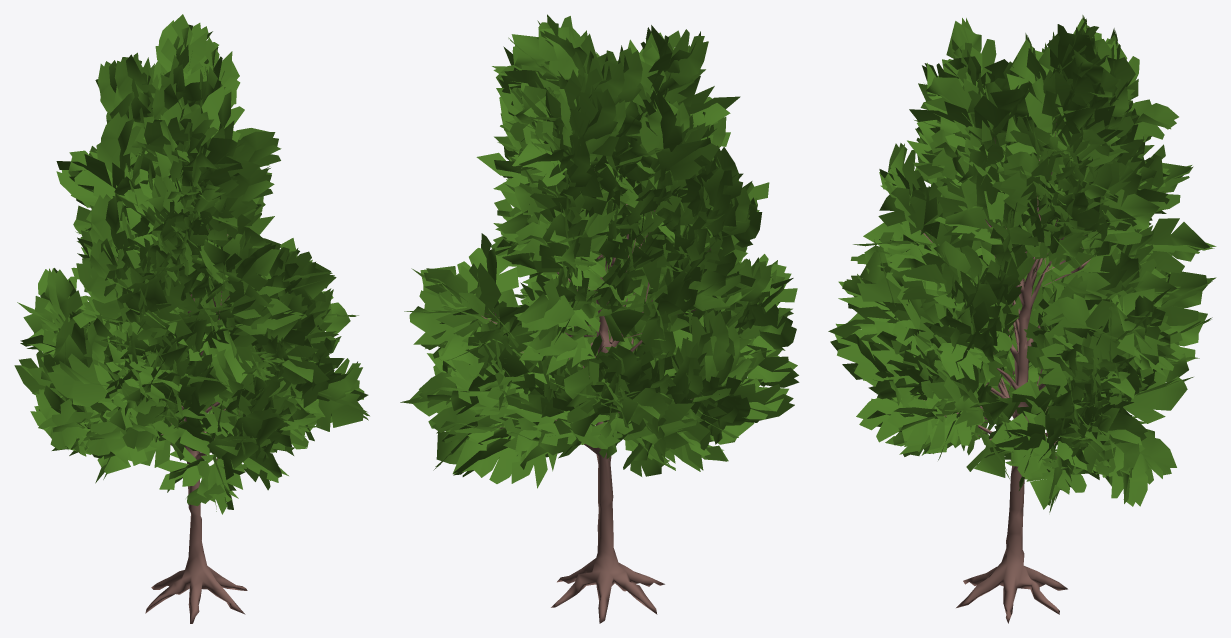
The model's file is tree1.glb.
3 views of the same model, side by side, from view 1: azimuth 30°, elevation 25°; view 2: azimuth 150°, elevation 25°; view 3: azimuth 270°, elevation 25° (orthographic). The views are drawn at different scales.
Visible parts, largest first — view 1: CALLERY TREE_LOW POLY .002; view 2: CALLERY TREE_LOW POLY .002; view 3: CALLERY TREE_LOW POLY .002.
Part boxes in pixels (x1,y1,x2,y2): CALLERY TREE_LOW POLY .002: (14,14,369,623); CALLERY TREE_LOW POLY .002: (400,14,799,623); CALLERY TREE_LOW POLY .002: (828,15,1216,623).
Bounding box in the file's own units: 7.43 × 13.03 × 7.74.
2 materials, 1 textured.
